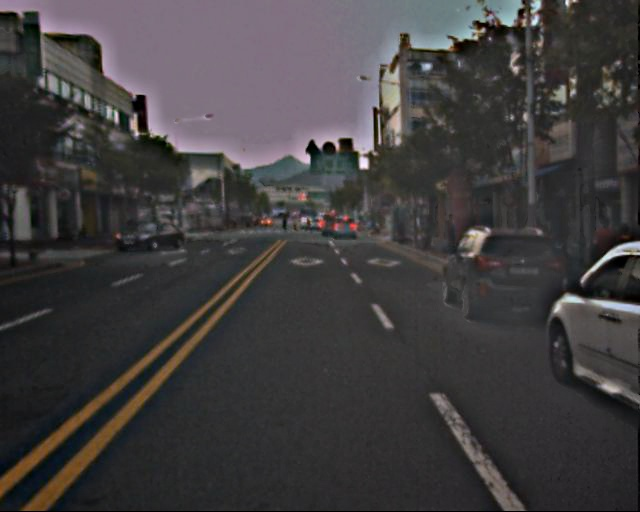person: (585, 216, 622, 306), (444, 215, 459, 252)
